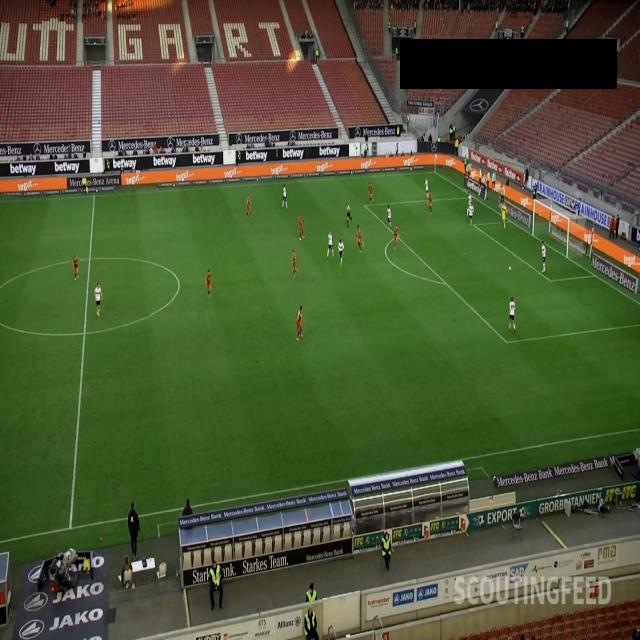ball: (508, 266, 512, 272)
f_player: (295, 304, 305, 342), (93, 283, 103, 318), (508, 298, 516, 332), (540, 243, 548, 276), (354, 226, 364, 251), (204, 269, 213, 296), (500, 200, 508, 228), (327, 232, 335, 258), (298, 215, 306, 241), (292, 252, 300, 278), (467, 197, 475, 223), (70, 256, 78, 280), (280, 186, 288, 210), (244, 196, 252, 218), (338, 237, 345, 262), (386, 205, 393, 228), (394, 224, 400, 249), (424, 176, 430, 198), (368, 184, 374, 204), (428, 190, 433, 212)
umpire: (344, 206, 352, 228), (82, 176, 90, 198)
